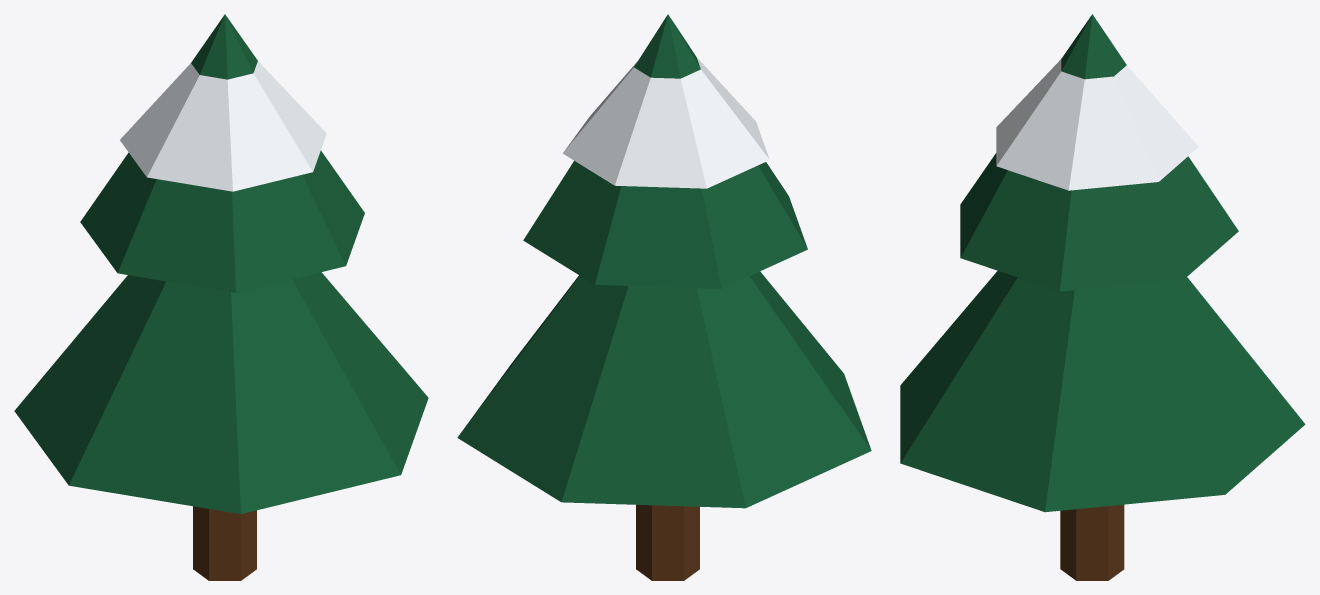
The model's file is snowy_pine_small.glb.
3 renders of one model, left to right at view 1: azimuth 30°, elevation 25°; view 2: azimuth 150°, elevation 25°; view 3: azimuth 270°, elevation 25°, orthographic.
Parts seen in each view (by area): view 1: snowy_pine_small; view 2: snowy_pine_small; view 3: snowy_pine_small.
Part boxes in pixels (box(x1,y1,x2,y2)): snowy_pine_small: box(14, 14, 428, 580); snowy_pine_small: box(457, 14, 871, 580); snowy_pine_small: box(900, 14, 1305, 580).
Size of the model in its own units: 1.56 by 2.3 by 1.52.
